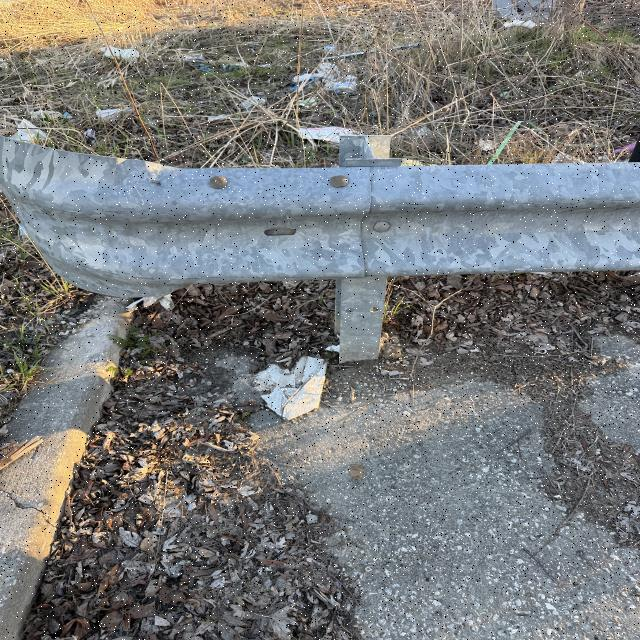Guard rail: (17, 152, 626, 280)
